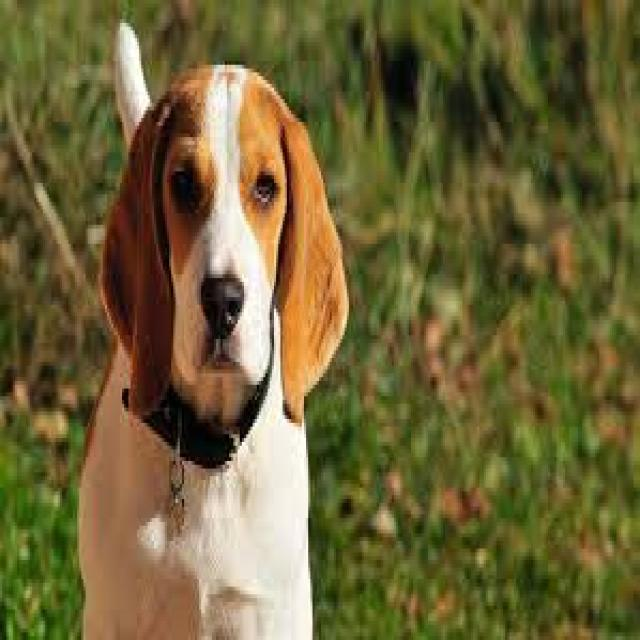Dog: (74, 14, 352, 640)
